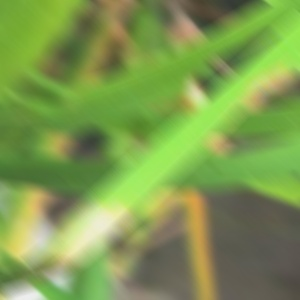Brown_Spot: (238, 56, 290, 106)
